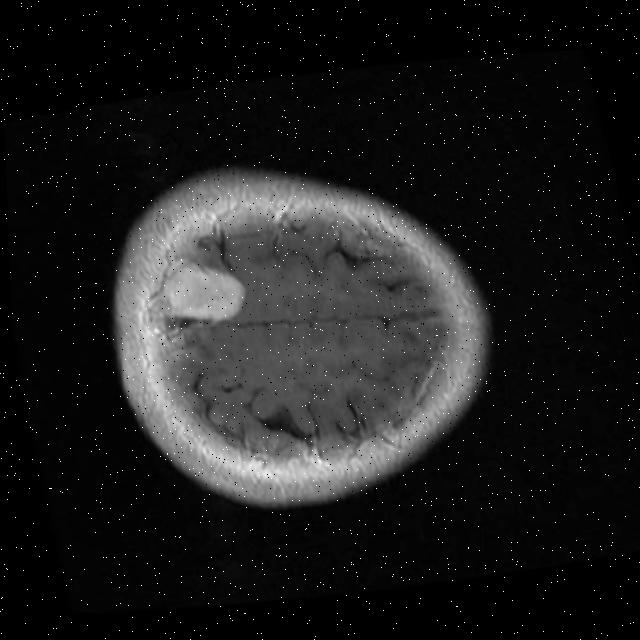Meningioma: (154, 249, 251, 330)
